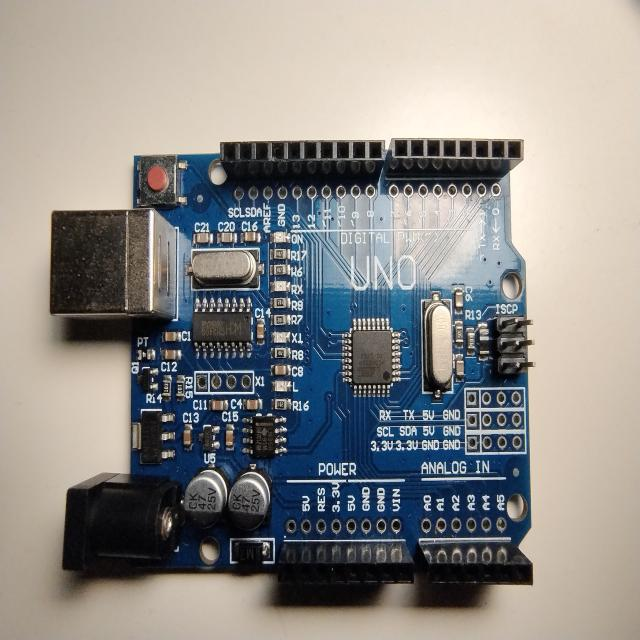arduino: (46, 127, 543, 607)
